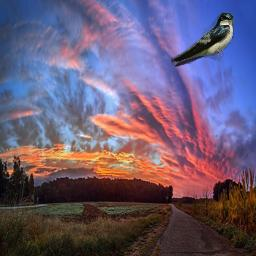Swallow: (171, 12, 234, 67)
